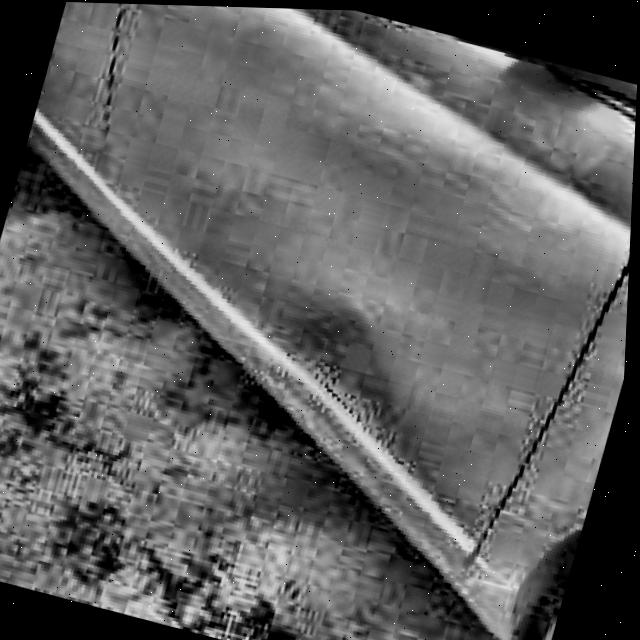door_dent: (257, 281, 412, 466)
